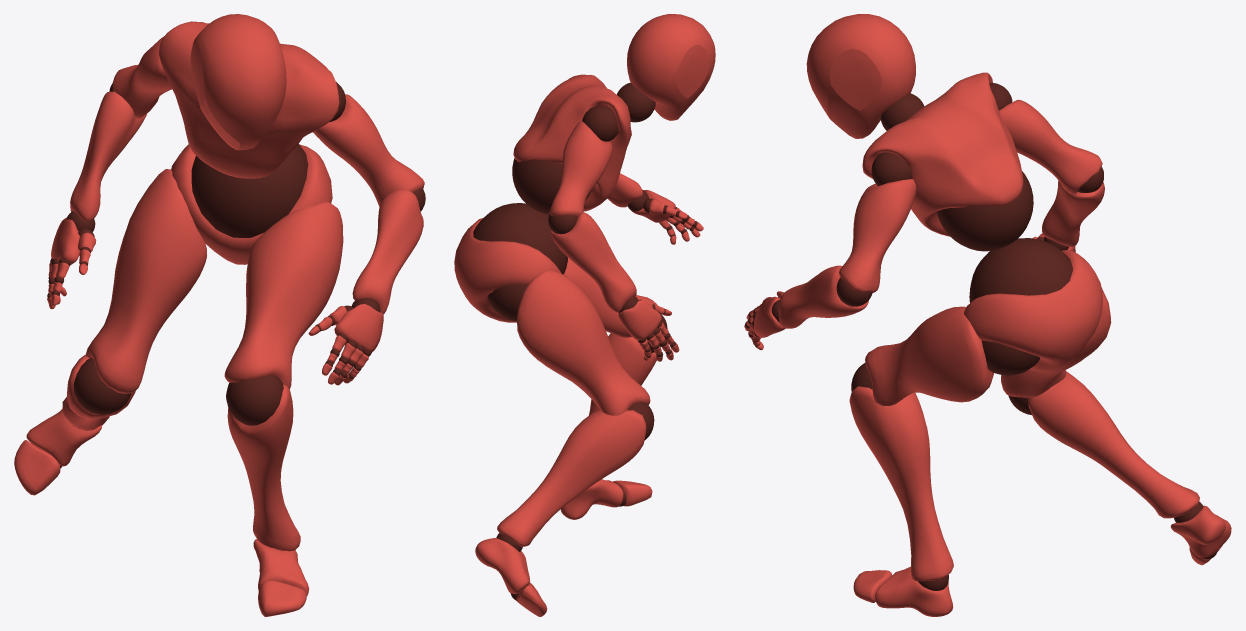
3 renders of one model, left to right at view 1: azimuth 30°, elevation 25°; view 2: azimuth 150°, elevation 25°; view 3: azimuth 270°, elevation 25°, orthographic. The views are drawn at different scales.
Parts seen in each view (by area): view 1: Beta_Surface, Beta_Joints; view 2: Beta_Surface, Beta_Joints; view 3: Beta_Surface, Beta_Joints.
Boxes of the visible parts, box(x1,y1,x2,y2) form: Beta_Surface: box(14, 14, 424, 616); Beta_Joints: box(47, 82, 425, 550); Beta_Surface: box(454, 14, 715, 616); Beta_Joints: box(473, 82, 697, 600); Beta_Surface: box(744, 14, 1231, 616); Beta_Joints: box(745, 83, 1217, 590).
Size of the model in its own units: 0.6601 by 1.38 by 1.08.
